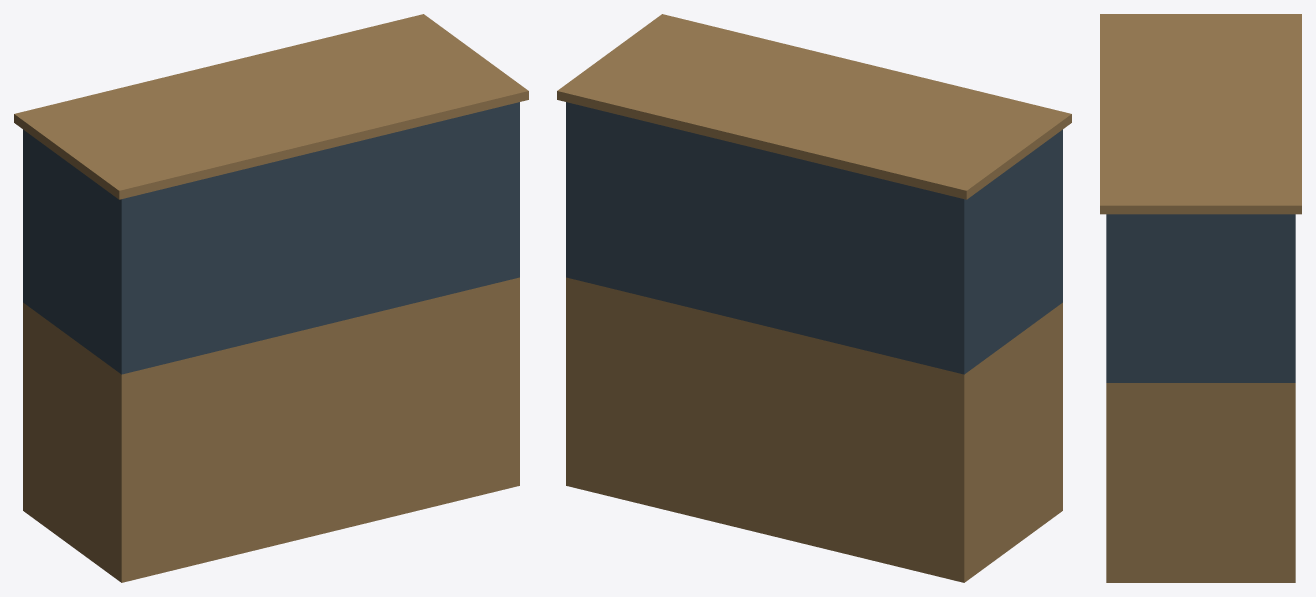
The model's file is bakery case.glb.
3 views of the same model, side by side, from view 1: azimuth 30°, elevation 25°; view 2: azimuth 150°, elevation 25°; view 3: azimuth 270°, elevation 25° (orthographic). The views are drawn at different scales.
Parts seen in each view (by area): view 1: bakery case; view 2: bakery case; view 3: bakery case.
Boxes of the visible parts, x1=… form: bakery case: x1=14, y1=14, x2=528, y2=582; bakery case: x1=557, y1=14, x2=1071, y2=582; bakery case: x1=1100, y1=14, x2=1301, y2=582.
Bounding box in the file's own units: 1.44 × 1.33 × 0.64.
